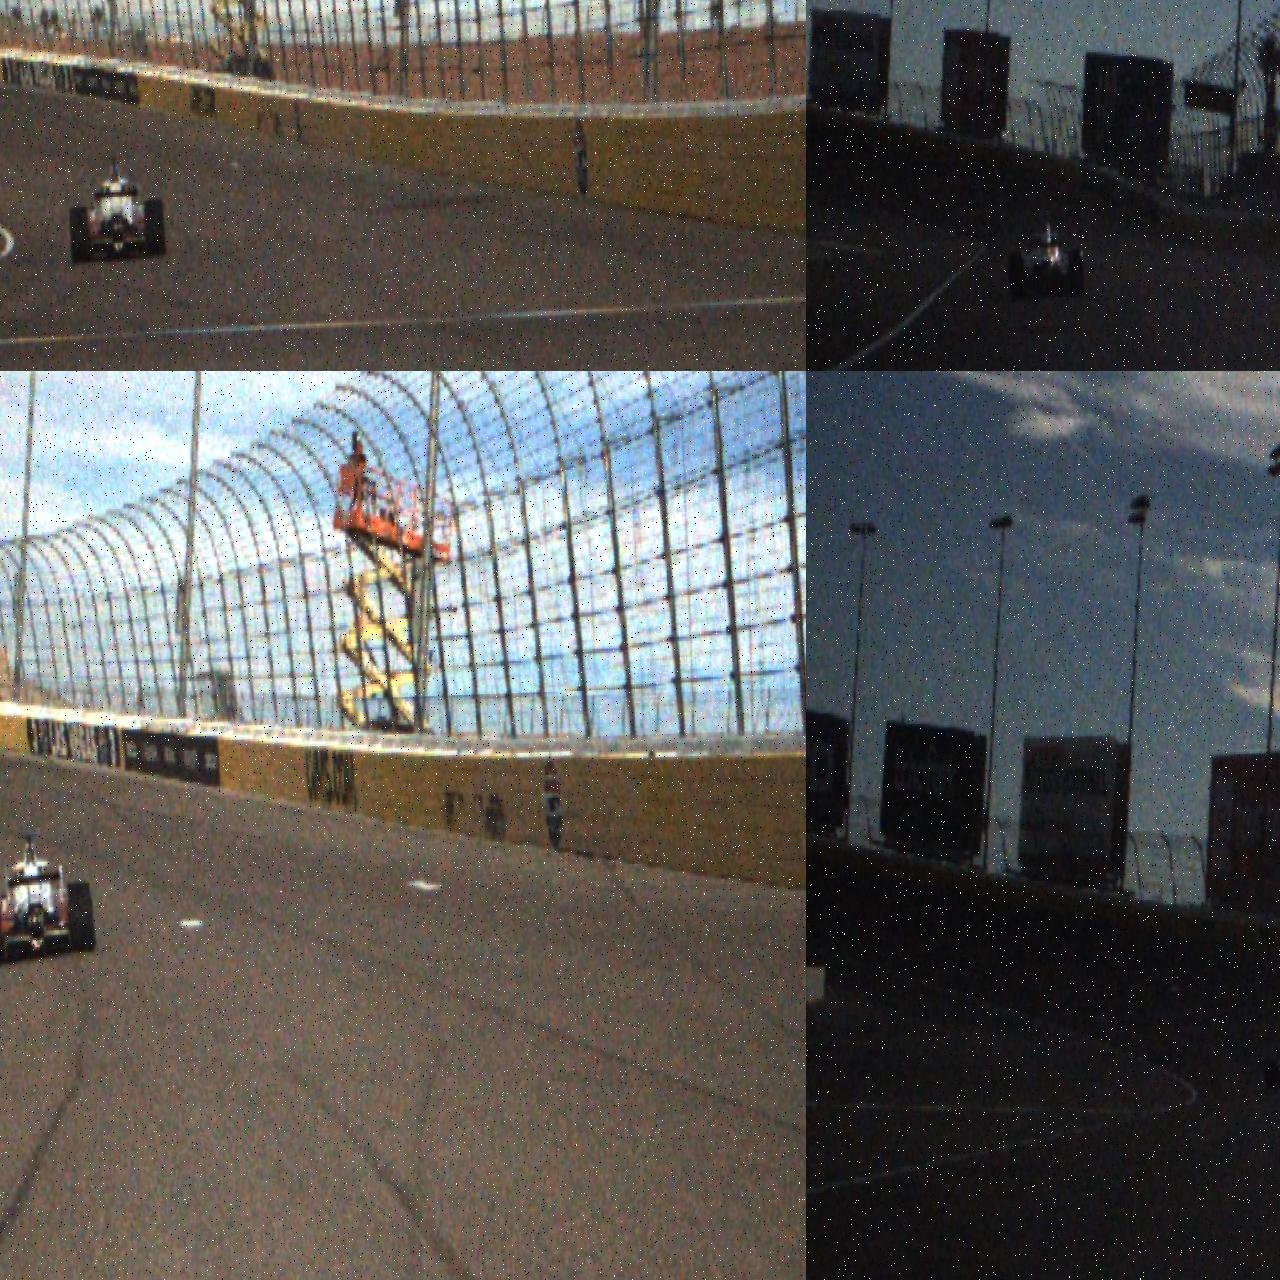AV: (0, 828, 94, 969), (66, 154, 166, 264), (1006, 208, 1086, 300), (1264, 1030, 1280, 1090)
Wheel: (66, 880, 94, 951), (68, 206, 90, 264), (144, 198, 166, 256), (1068, 250, 1086, 298), (1007, 251, 1023, 300), (1264, 1058, 1276, 1089)
